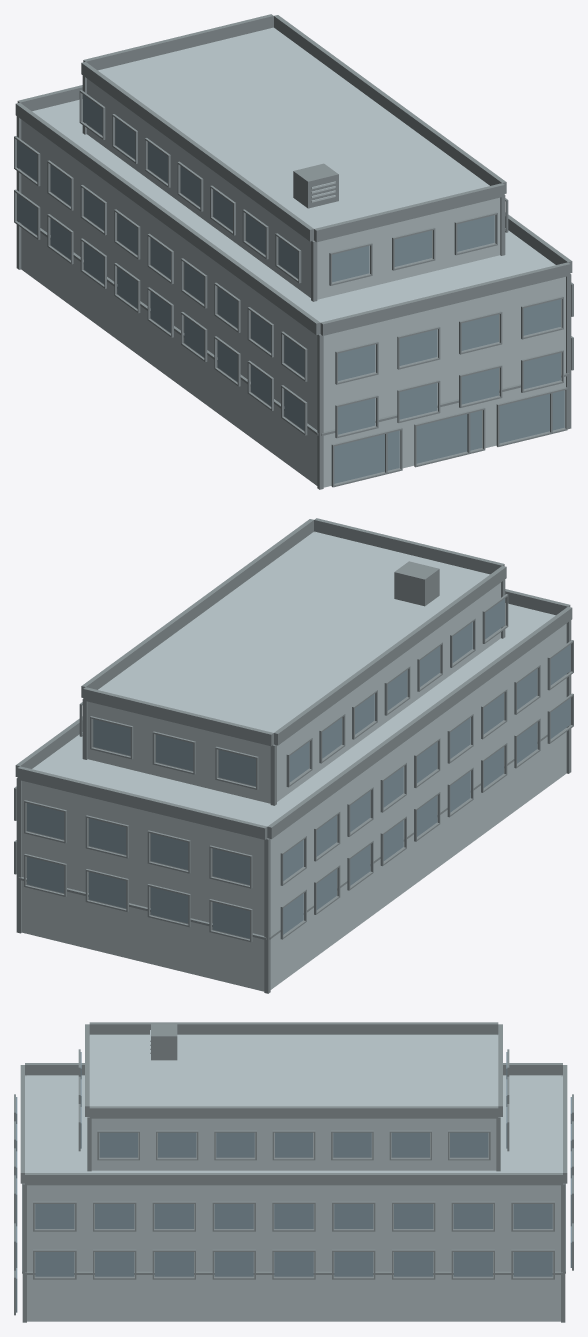
Rendered from lot_2x4_slab.glb.
The picture shows the model from 3 angles, top to bottom: view 1: azimuth 30°, elevation 25°; view 2: azimuth 150°, elevation 25°; view 3: azimuth 270°, elevation 25°; orthographic projection. The views are drawn at different scales.
Parts seen in each view (by area): view 1: lot_2x4_slab; view 2: lot_2x4_slab; view 3: lot_2x4_slab.
Part boxes in pixels (x1=…): lot_2x4_slab: x1=14, y1=14, x2=573, y2=489; lot_2x4_slab: x1=14, y1=518, x2=573, y2=993; lot_2x4_slab: x1=14, y1=1022, x2=573, y2=1322.
Size of the model in its own units: 15.74 by 13.5 by 31.74.
